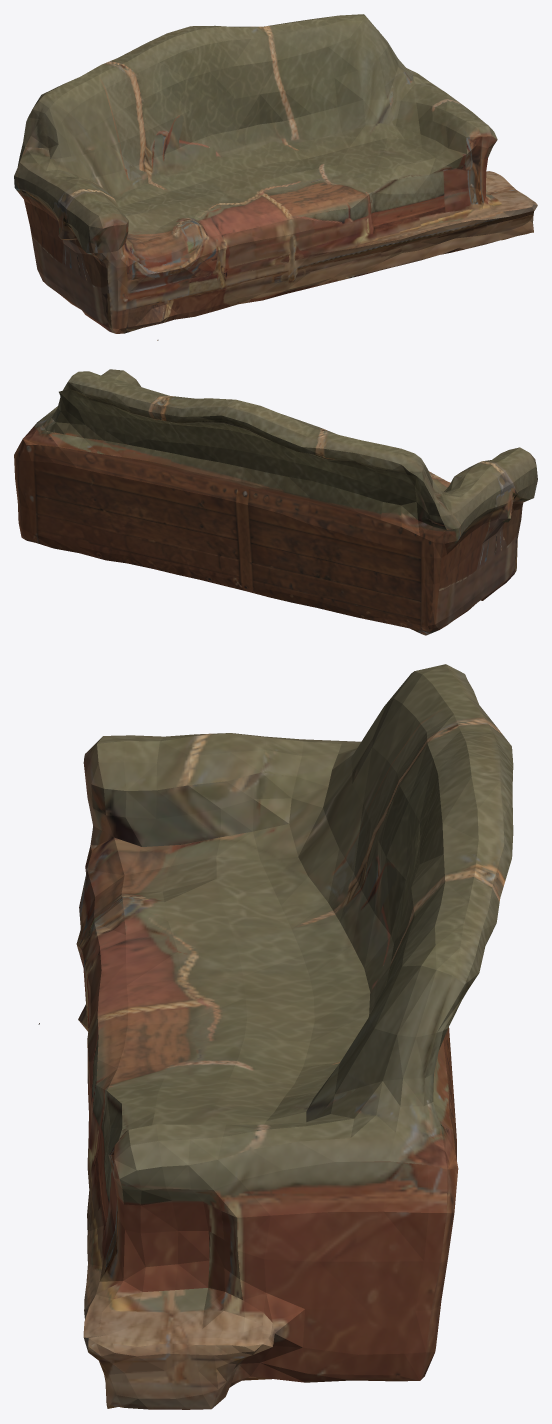
The model's file is StorageSofa.fbx.
The picture shows the model from 3 angles, top to bottom: view 1: azimuth 30°, elevation 25°; view 2: azimuth 150°, elevation 25°; view 3: azimuth 270°, elevation 25°; orthographic projection. The views are drawn at different scales.
Visible parts, largest first — view 1: StorageSofa_Low; view 2: StorageSofa_Low; view 3: StorageSofa_Low.
Part boxes in pixels (x1,y1,x2,y2): StorageSofa_Low: (14, 14, 537, 340); StorageSofa_Low: (14, 369, 537, 635); StorageSofa_Low: (38, 664, 513, 1409).
Bounding box in the file's own units: 2.87 × 1.24 × 1.31.
